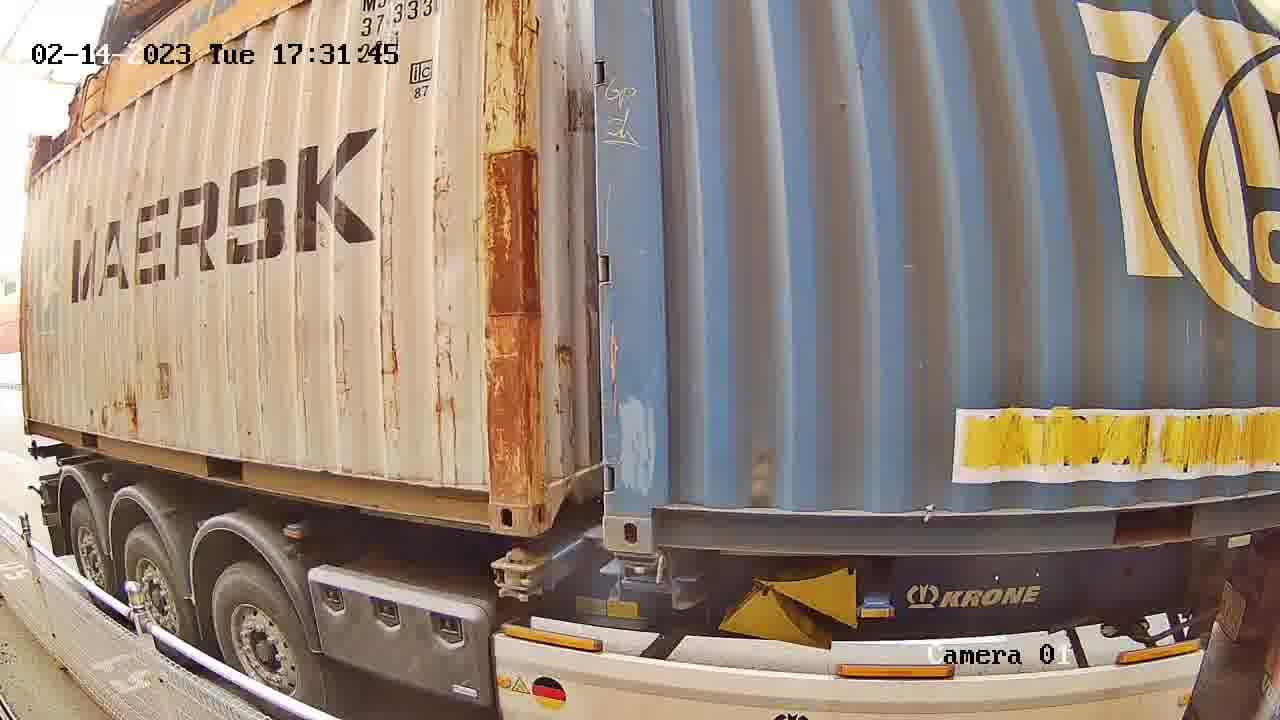Cone: (496, 546, 543, 601), (613, 552, 666, 588)
Hole_L: (605, 469, 694, 550), (531, 447, 584, 536)
Hole_R: (452, 459, 530, 536)
Tire: (211, 567, 319, 719), (126, 527, 194, 664), (71, 502, 112, 604)
